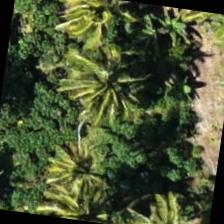Kelapa_Sawit: (55, 37, 158, 139), (35, 115, 137, 217), (51, 0, 149, 64), (129, 180, 214, 223)
